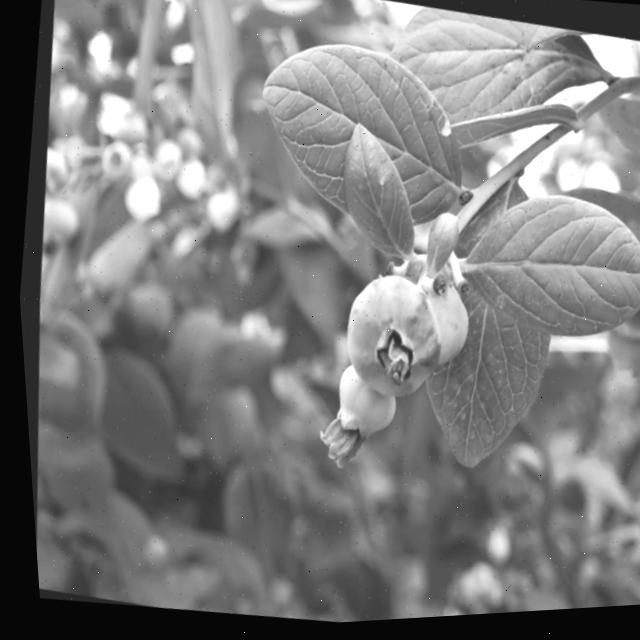Semi-RipeBlueBerry: (319, 259, 451, 410)
